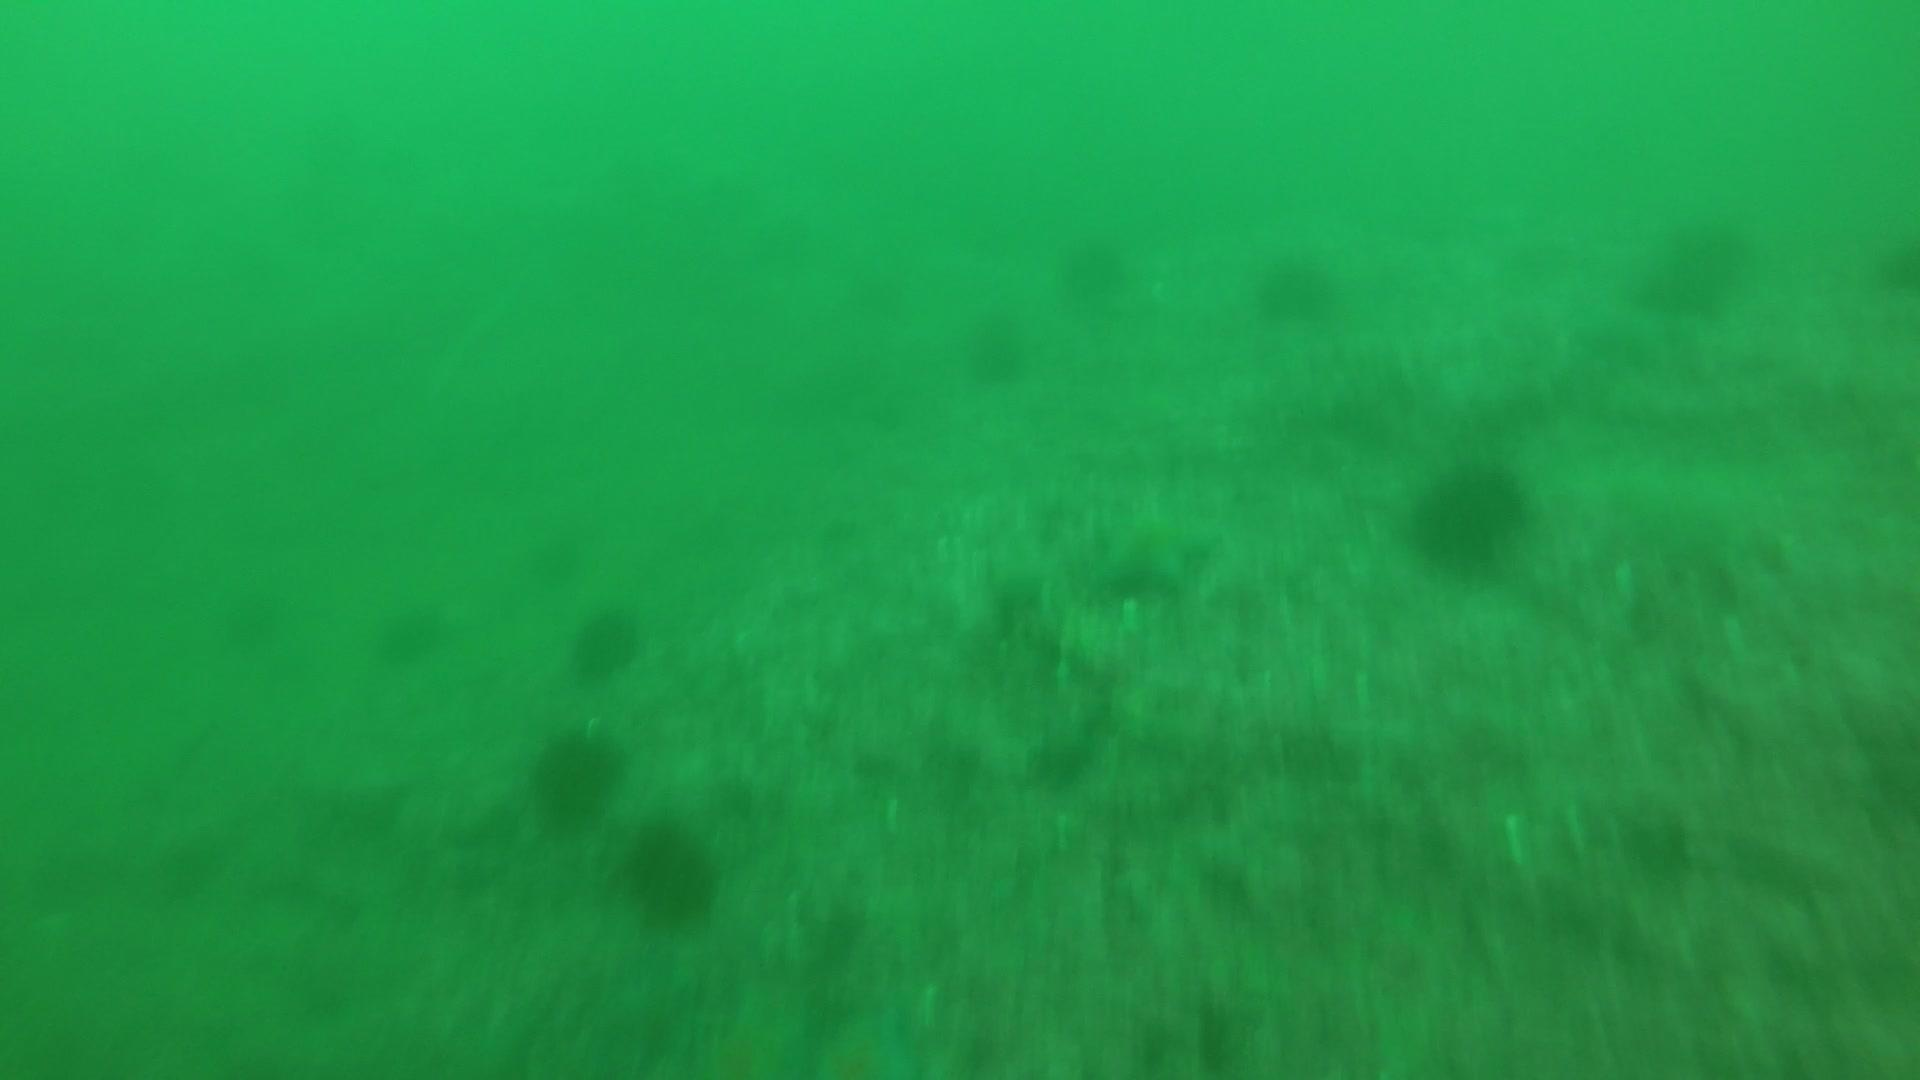echinus: (1402, 454, 1534, 575), (1633, 208, 1756, 320), (615, 814, 725, 931), (524, 723, 630, 825), (1250, 245, 1342, 326), (564, 600, 646, 683), (1054, 225, 1135, 305), (369, 593, 454, 669), (959, 305, 1033, 388), (214, 578, 291, 653), (1869, 228, 1920, 301)
starfish: (1083, 487, 1220, 603), (814, 997, 934, 1076)
